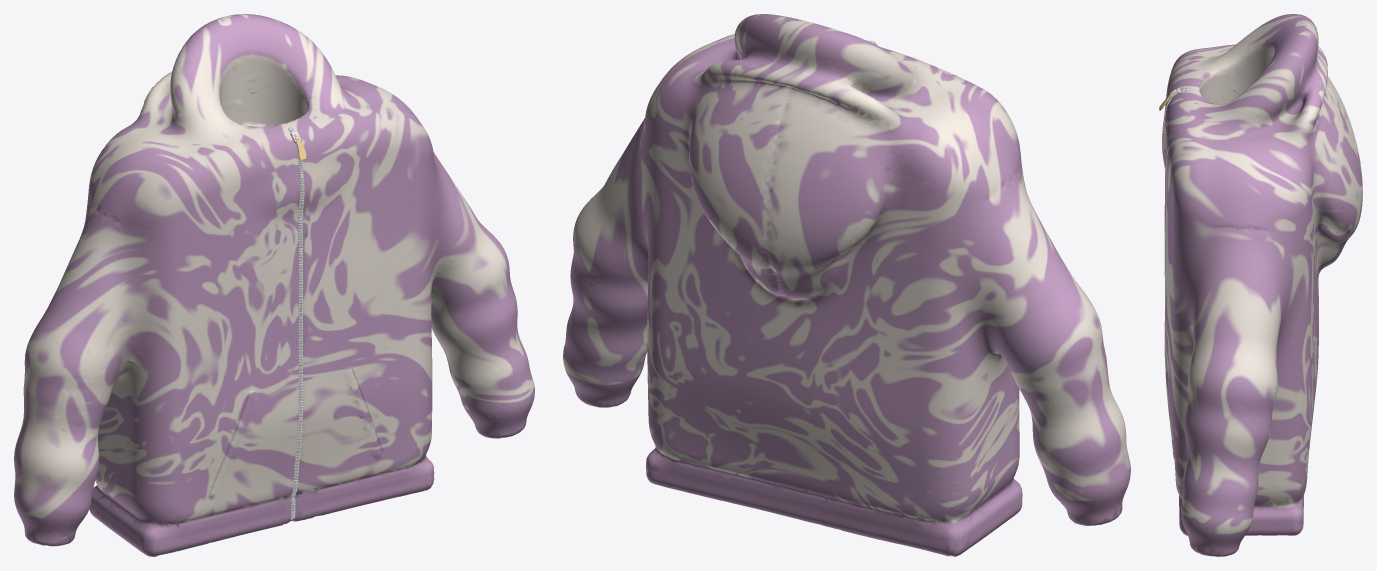
Rendered from ressac-lilac-whirl.glb.
The picture shows the model from 3 angles, left to right: view 1: azimuth 30°, elevation 25°; view 2: azimuth 150°, elevation 25°; view 3: azimuth 270°, elevation 25°; orthographic projection. The views are drawn at different scales.
Parts seen in each view (by area): view 1: KYMA Ressac — Lilac Whirl (visuel de présentation 3D); view 2: KYMA Ressac — Lilac Whirl (visuel de présentation 3D); view 3: KYMA Ressac — Lilac Whirl (visuel de présentation 3D).
Boxes of the visible parts, x1,y1,x2,y2 form: KYMA Ressac — Lilac Whirl (visuel de présentation 3D): [14, 14, 534, 556]; KYMA Ressac — Lilac Whirl (visuel de présentation 3D): [563, 14, 1130, 556]; KYMA Ressac — Lilac Whirl (visuel de présentation 3D): [1159, 14, 1362, 556].
Bounding box in the file's own units: 1.04 × 0.8959 × 0.3715.
Materials: 3 (1 with a texture image).
